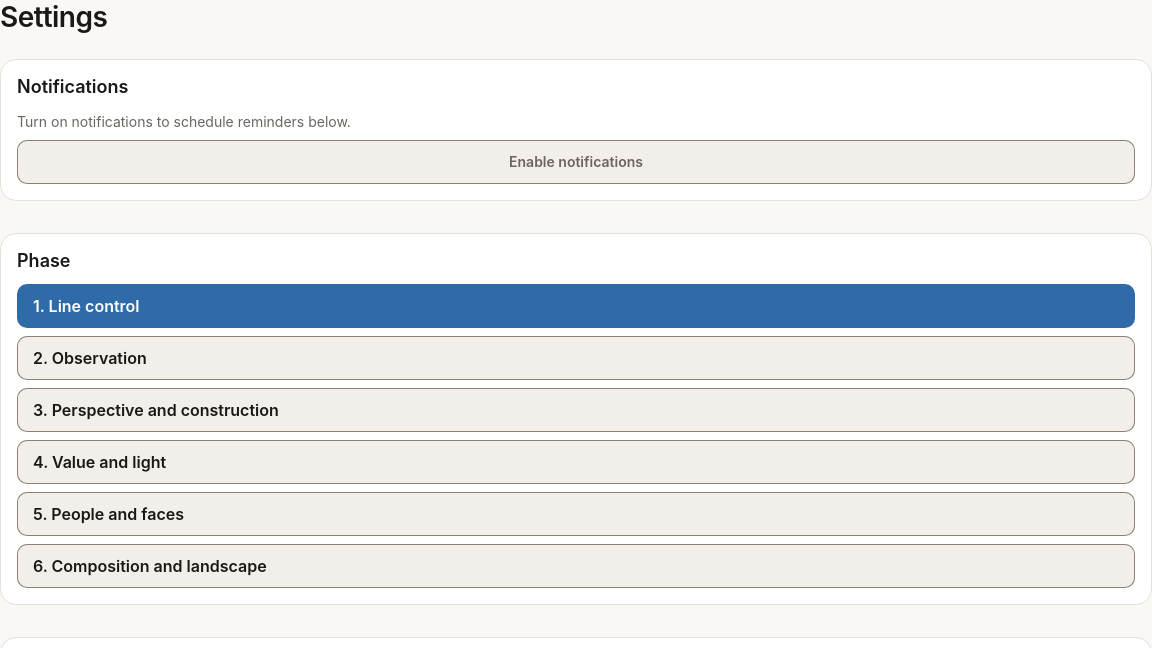
it: notifications — standalone-mode branches › tapping Enable requests permission and reveals the slot controls
Click the button "Enable notifications".
click(576, 162)  # box left=17, top=140, right=1135, bottom=184
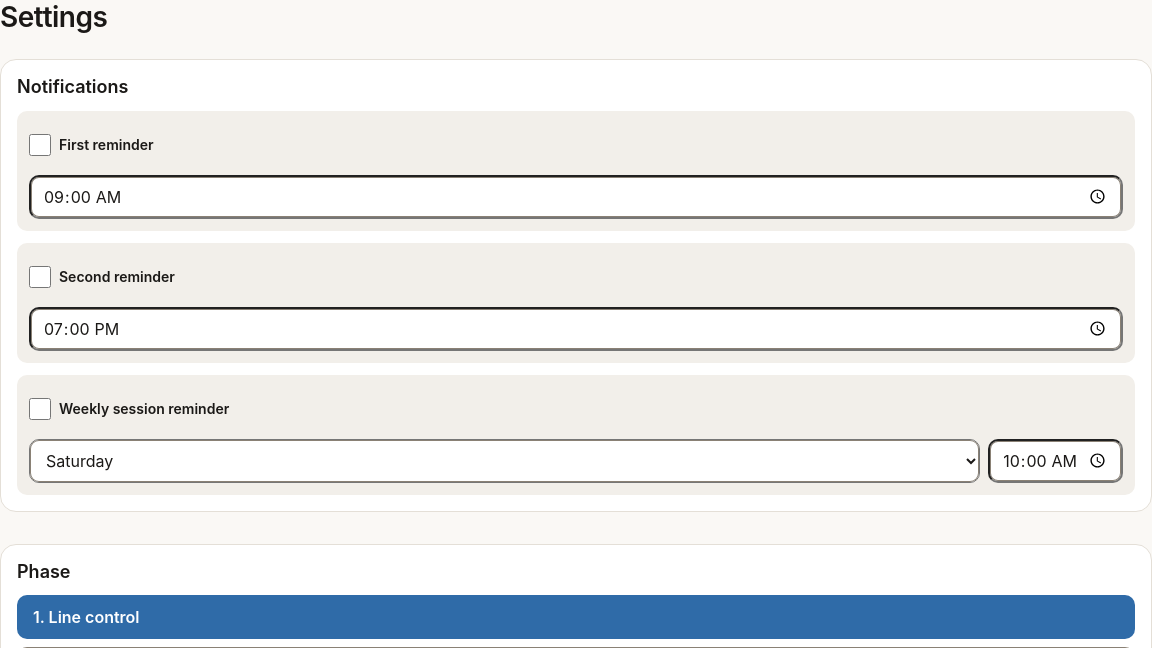
Now the text "First reminder" is shown, box left=59, top=134, right=154, bottom=155
